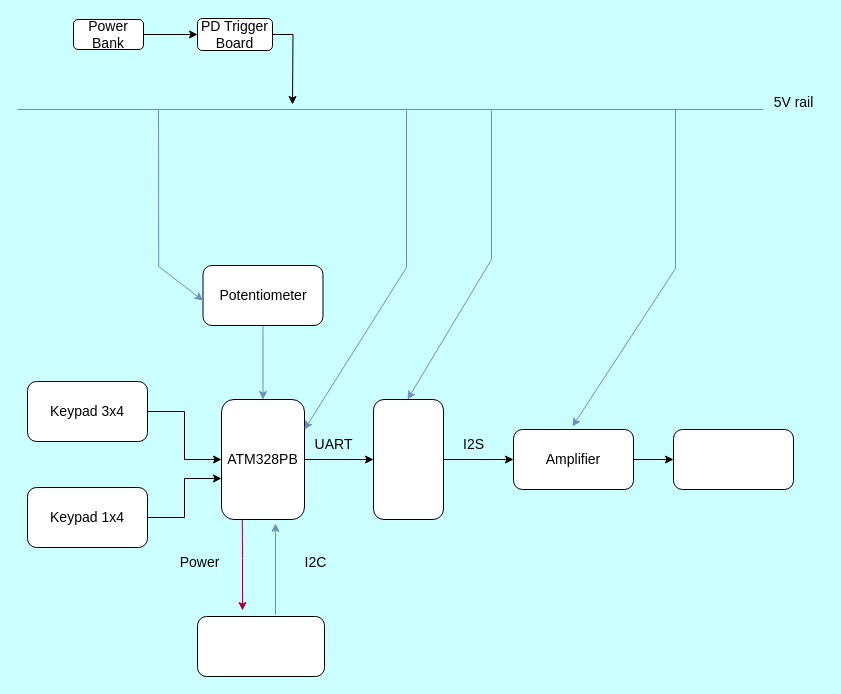
Image size: 841x694. Some labels were removed from this diagram. Here are the shapes that lost their labels. From the top down, the centre of each, then its label:
At point 408,459: "ESP32-S2".
At point 733,459: "Speaker".
At point 260,646: "IMU".
